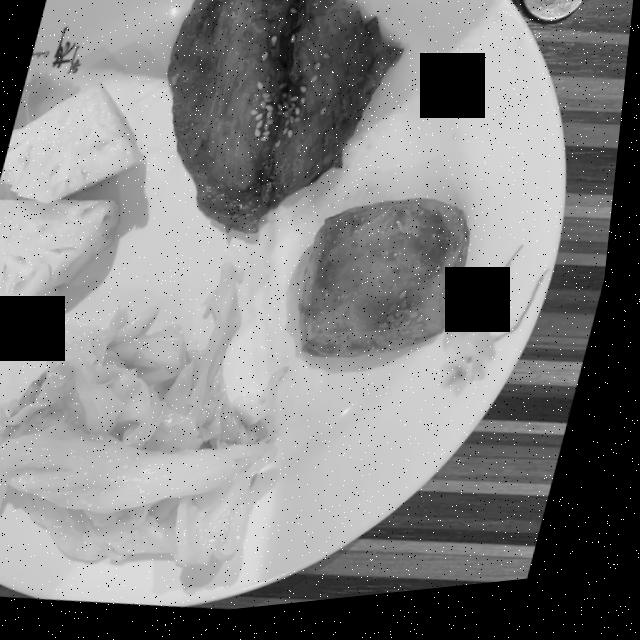Kabayaki sea bream fillet: (169, 0, 404, 239)
cabbage: (0, 269, 295, 573)
coin: (522, 0, 587, 33)
creamy tofu: (306, 208, 475, 366)
pineapple: (0, 85, 148, 330)
